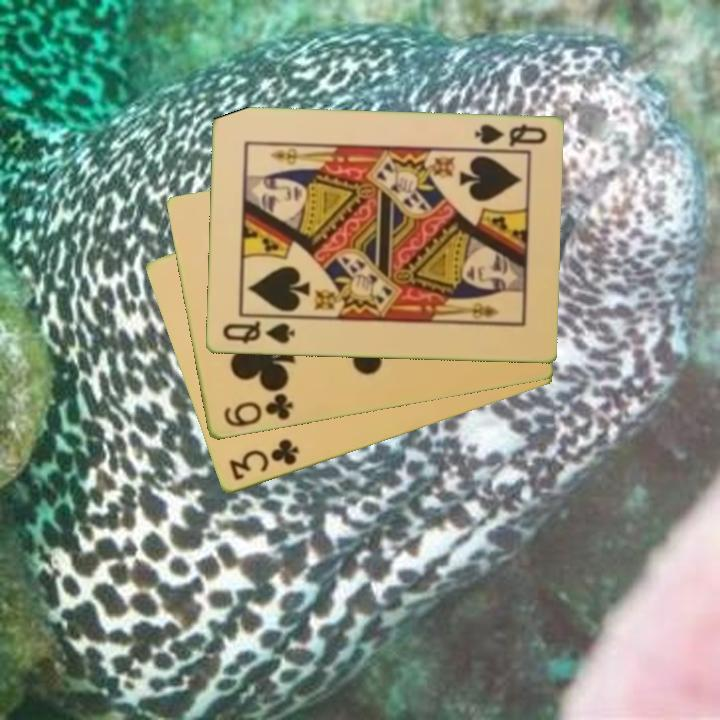3c: (225, 436, 302, 484)
6c: (219, 390, 296, 431)
Qs: (468, 120, 550, 154), (218, 317, 298, 347)
